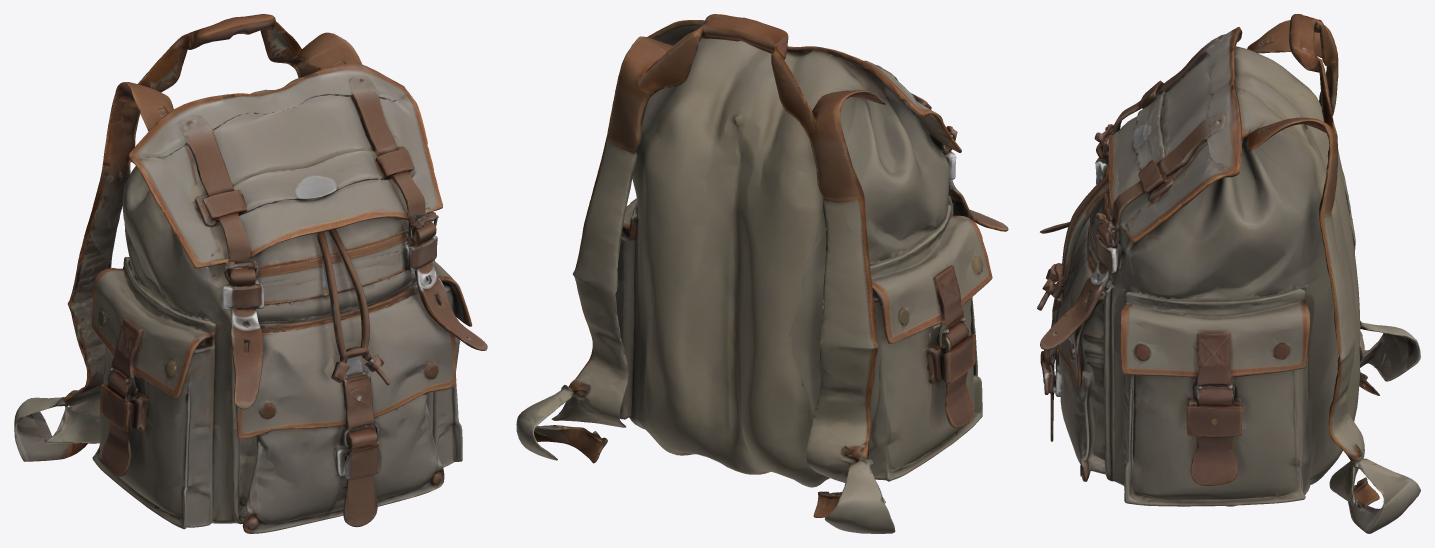
The model's file is bag.fbx.
The picture shows the model from 3 angles, left to right: view 1: azimuth 30°, elevation 25°; view 2: azimuth 150°, elevation 25°; view 3: azimuth 270°, elevation 25°; orthographic projection. The views are drawn at different scales.
Parts seen in each view (by area): view 1: backpack; view 2: backpack; view 3: backpack.
Boxes of the visible parts, x1,y1,x2,y2 form: backpack: (14, 14, 487, 533); backpack: (516, 14, 1008, 533); backpack: (1037, 14, 1420, 533).
Size of the model in its own units: 162 by 190 by 151.
1 material, 1 textured.
